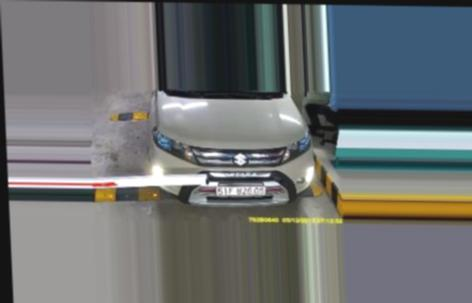License_Plate: (216, 182, 269, 201)
